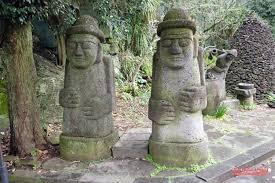Stone Statue: (49, 13, 130, 166), (144, 6, 218, 170)
